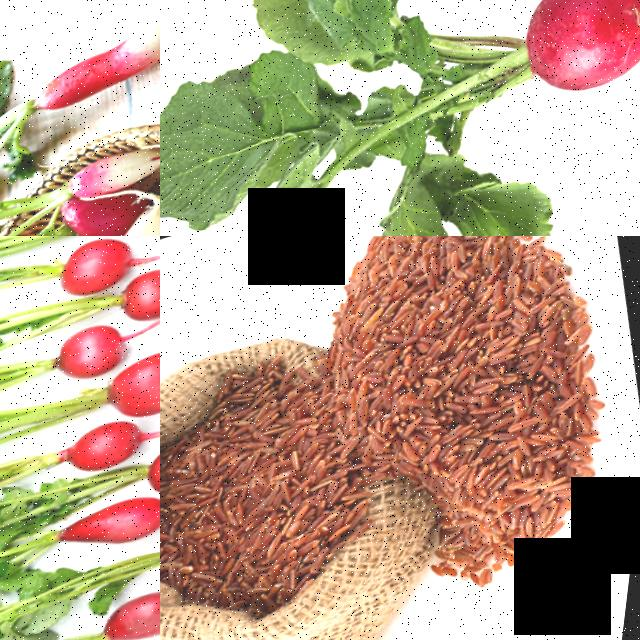radishes: (405, 0, 640, 162), (3, 391, 160, 577), (0, 236, 160, 415), (0, 0, 160, 135), (0, 506, 160, 640), (0, 146, 160, 236), (41, 333, 160, 445), (0, 180, 160, 236)
red rice: (294, 236, 630, 513), (160, 377, 395, 617), (420, 419, 640, 606)
